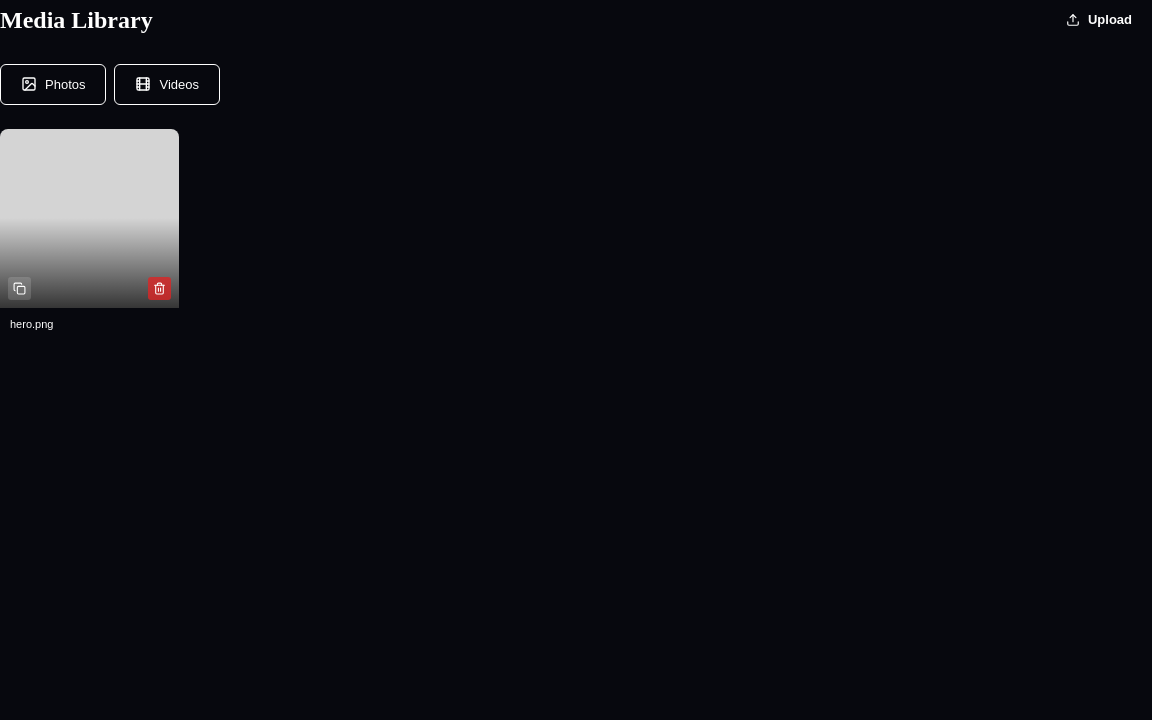
Scenario: MediaLibrary delete › keeps delete behind an acknowledgement when the usage check fails
Click the button named "Delete hero.png" at point(159, 288), box x1=148 y1=277 x2=171 y2=300
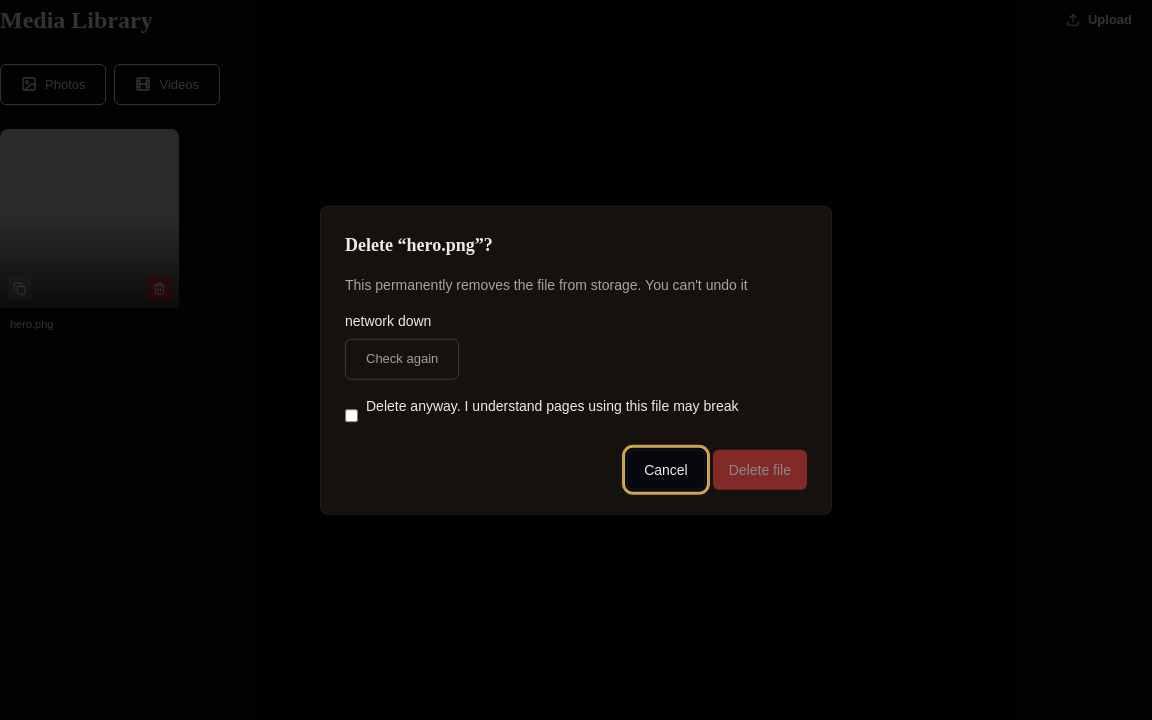
Result: the text "network down" is shown at x1=345 y1=313 x2=431 y2=329
Result: the button "Delete file" is disabled at x1=713 y1=449 x2=807 y2=489
